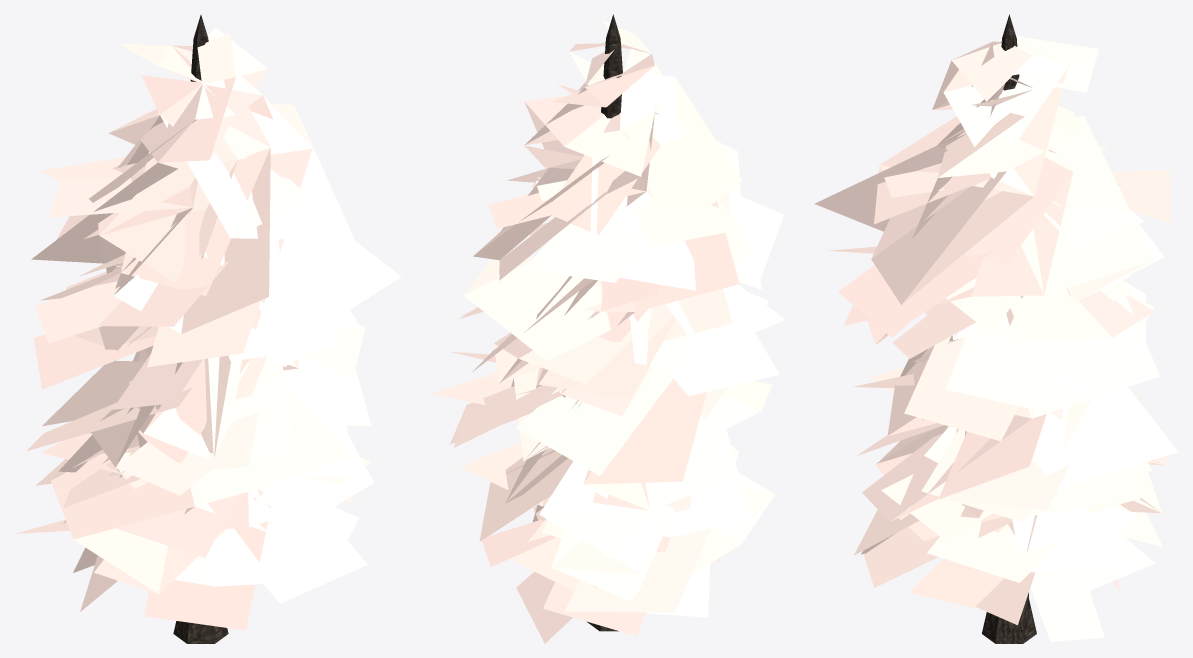
The model's file is Tree_Conifer_SnowNoLeaves.fbx.
3 views of the same model, side by side, from view 1: azimuth 30°, elevation 25°; view 2: azimuth 150°, elevation 25°; view 3: azimuth 270°, elevation 25° (orthographic). The views are drawn at different scales.
Parts seen in each view (by area): view 1: SnowBranch; view 2: SnowBranch; view 3: SnowBranch.
Boxes of the visible parts, x1,y1,x2,y2 form: SnowBranch: (15, 15, 401, 643); SnowBranch: (431, 14, 785, 643); SnowBranch: (814, 14, 1178, 643).
Size of the model in its own units: 3105 by 5538 by 2953.
